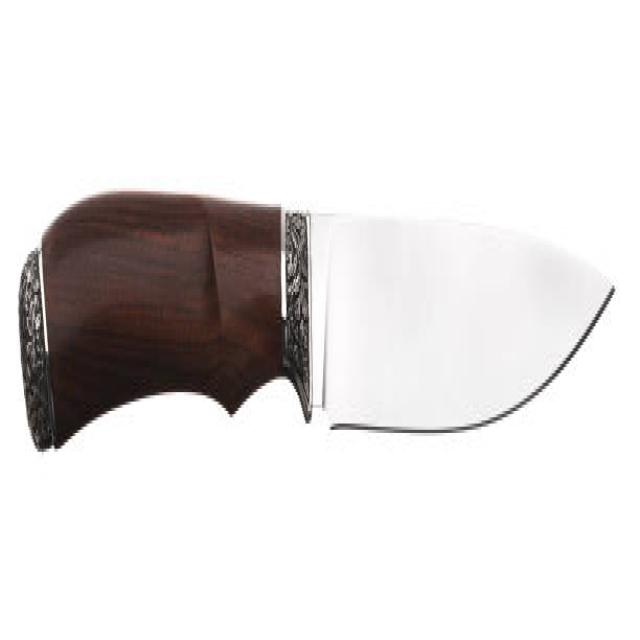knife: (20, 194, 621, 490)
